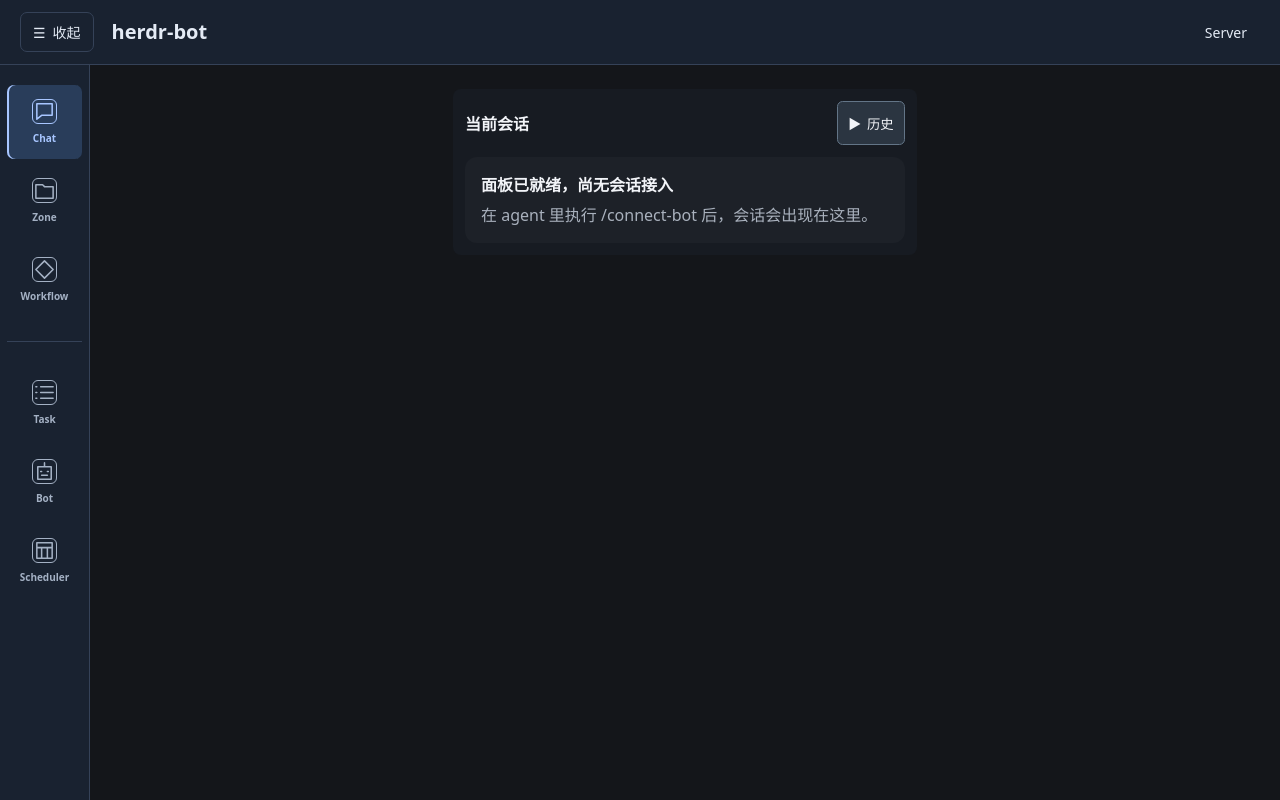
it: Task tab：读取与展示 › 进入 task 入口才读取共享 Task，并显示字段与 chat-name 示例
Click the tab with test id "tab-tasks". click: [44, 403]
box: [7,366,82,440]
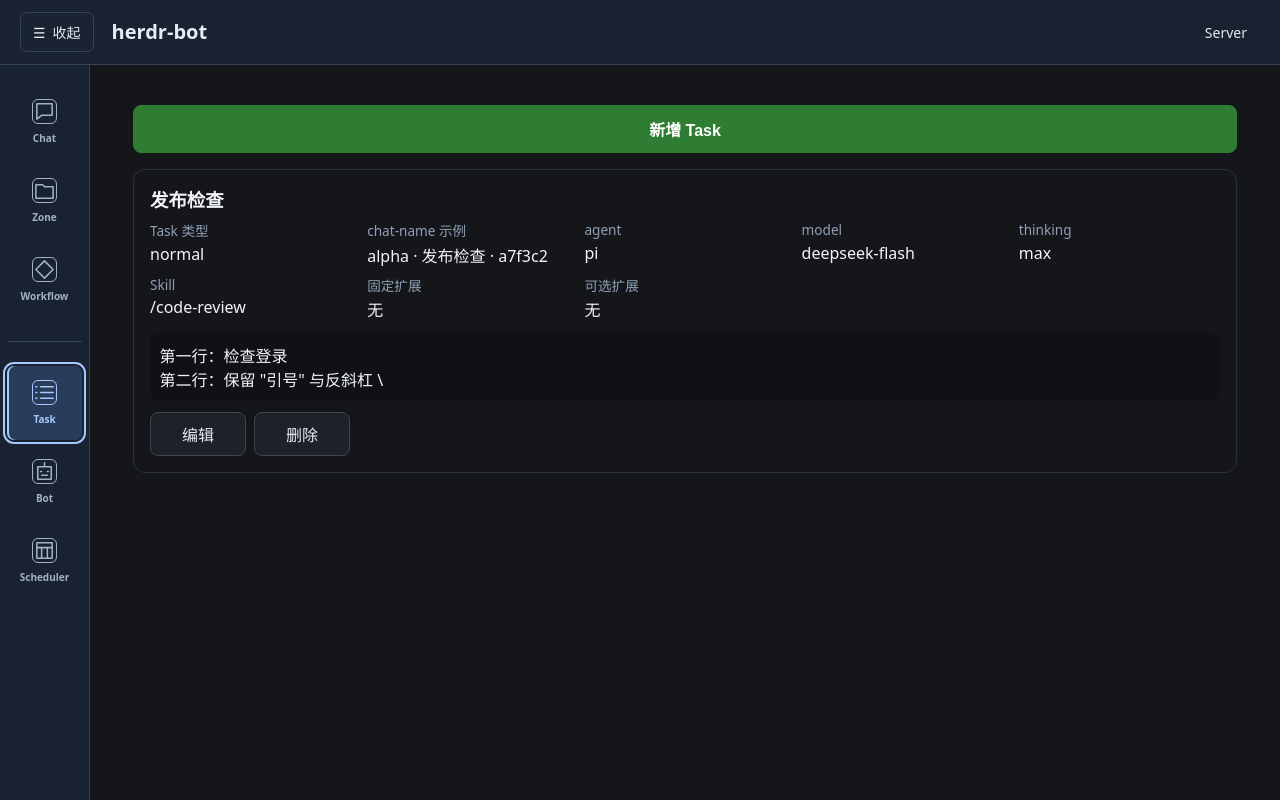
Result: the list item with test id "task-item" shows "发布检查" at [150,187,224,212]
Result: the list item with test id "task-item" shows "alpha · 发布检查 · a7f3c2" at [367,245,548,267]
Result: the list item with test id "task-item" shows "pi" at [584,242,598,264]
Click the button with test id "server-button". click: [1226, 32]
box: [1192,12,1260,52]
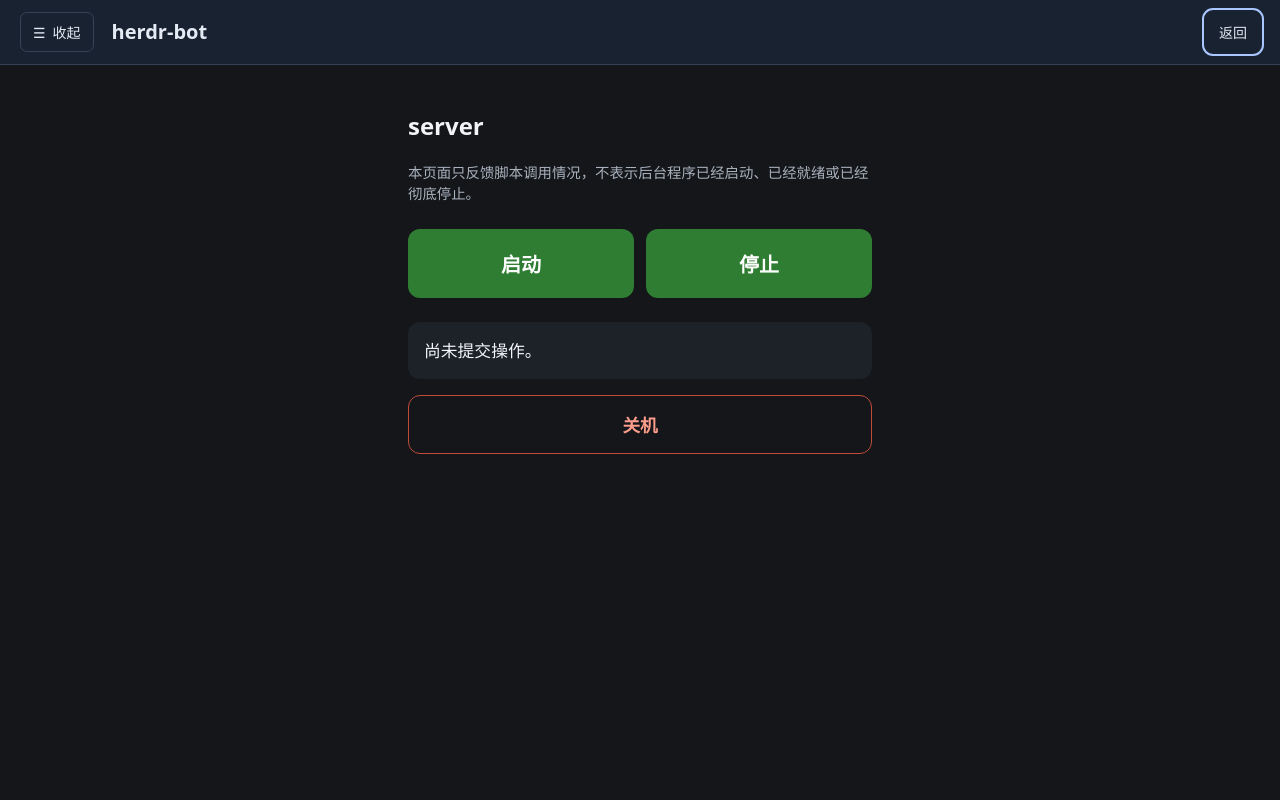
Result: the element with test id "server-page" is shown at [408,109,872,379]
Result: the button with test id "start-button" is enabled at [408,229,634,298]
Click the button with test id "server-back". click: [1233, 32]
box: [1206,12,1260,52]
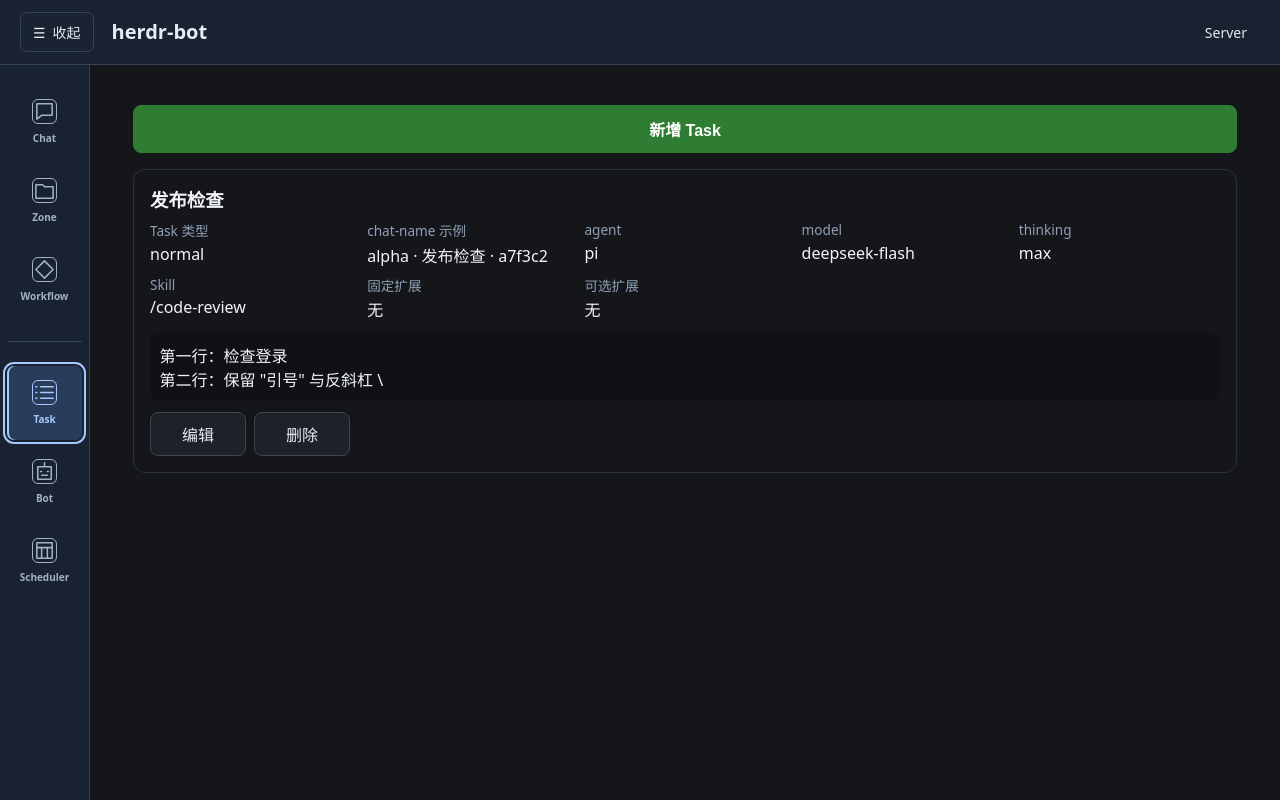
Click the tab with test id "tab-files". click: [44, 201]
box: [7,164,82,238]
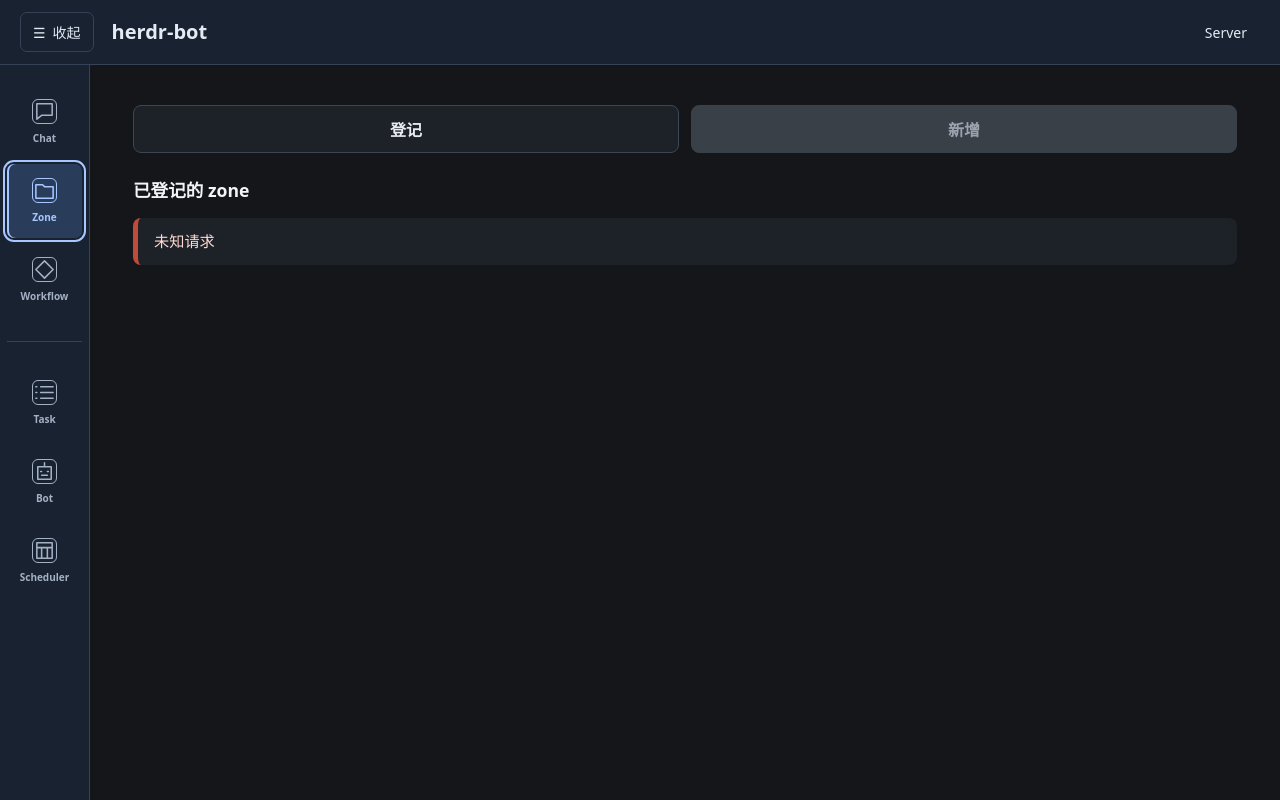
Result: the panel with test id "panel-files" is shown at [133,105,1237,265]
